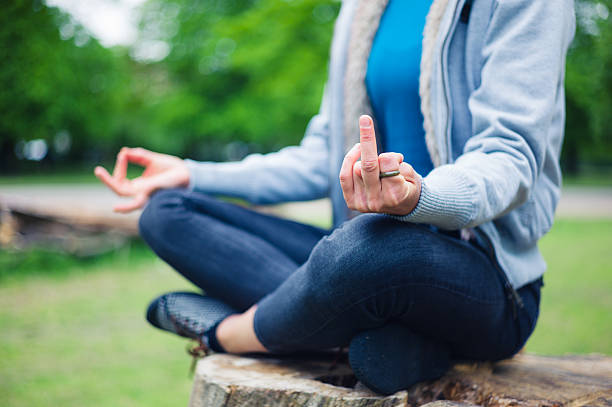insulting_gesture: (340, 108, 418, 221)
